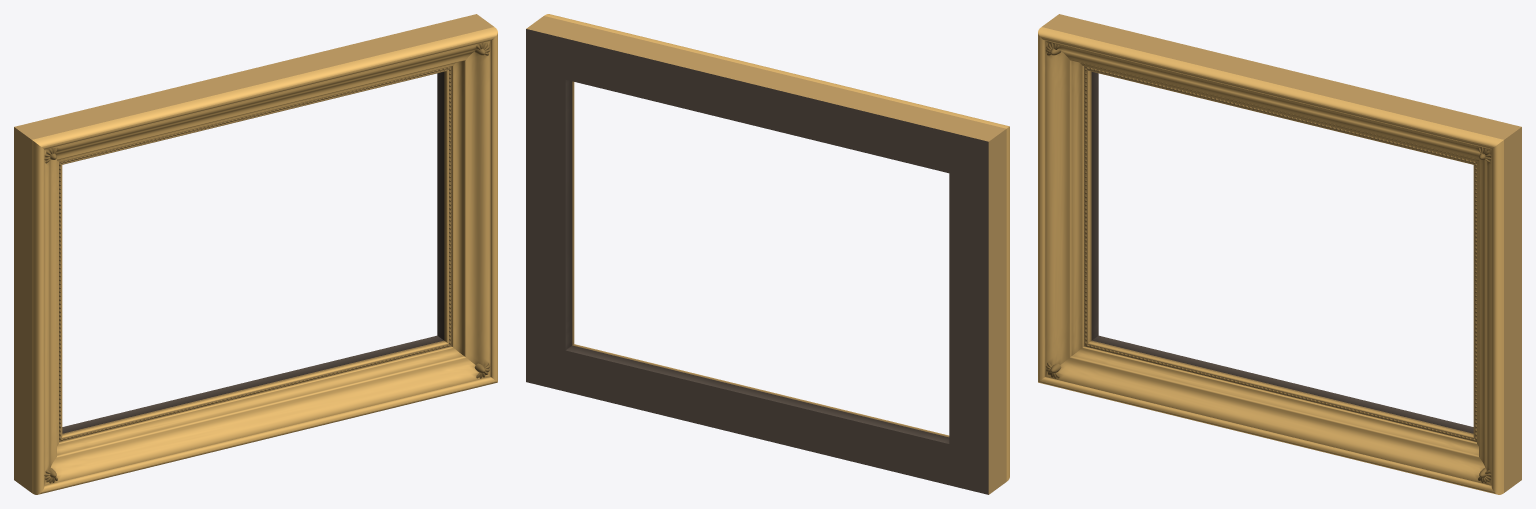
Rendered from 08-utro-v-sosnovom-lesu.glb.
3 views of the same model, side by side, from view 1: azimuth 30°, elevation 25°; view 2: azimuth 150°, elevation 25°; view 3: azimuth 330°, elevation 25° (orthographic).
Parts seen in each view (by area): view 1: Frame; view 2: Frame; view 3: Frame.
Part boxes in pixels (x1=…): Frame: x1=14, y1=14, x2=497, y2=494; Frame: x1=526, y1=14, x2=1009, y2=494; Frame: x1=1038, y1=14, x2=1521, y2=494.
Bounding box in the file's own units: 1.76 × 1.28 × 0.162.
